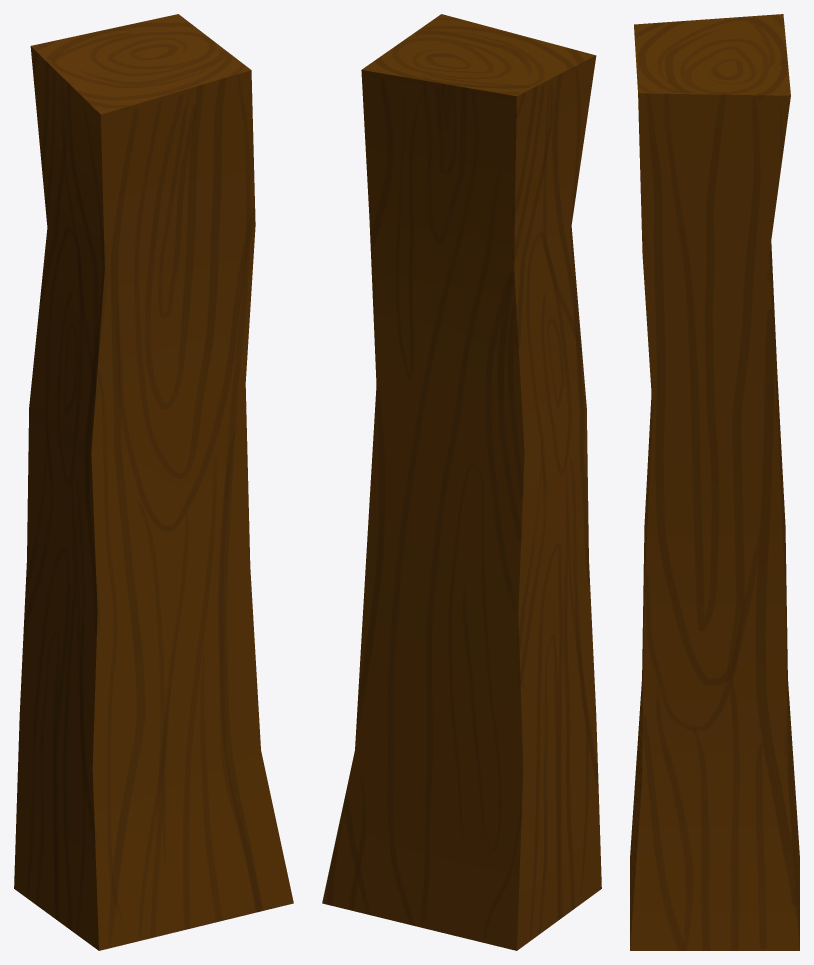
File: Post_Corner.fbx
3 views of the same model, side by side, from view 1: azimuth 30°, elevation 25°; view 2: azimuth 150°, elevation 25°; view 3: azimuth 270°, elevation 25° (orthographic).
Parts seen in each view (by area): view 1: End_Post; view 2: End_Post; view 3: End_Post.
Boxes of the visible parts, box(x1,y1,x2,y2) form: End_Post: box(14, 14, 293, 950); End_Post: box(322, 14, 601, 950); End_Post: box(630, 14, 799, 950).
Bounding box in the file's own units: 0.9746 × 4.04 × 0.7346.
Materials: 1 (1 with a texture image).
